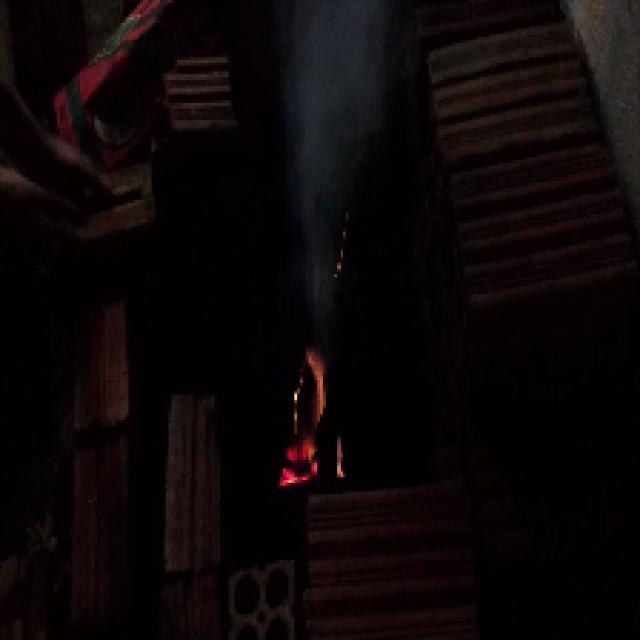smoke: (279, 11, 362, 158)
